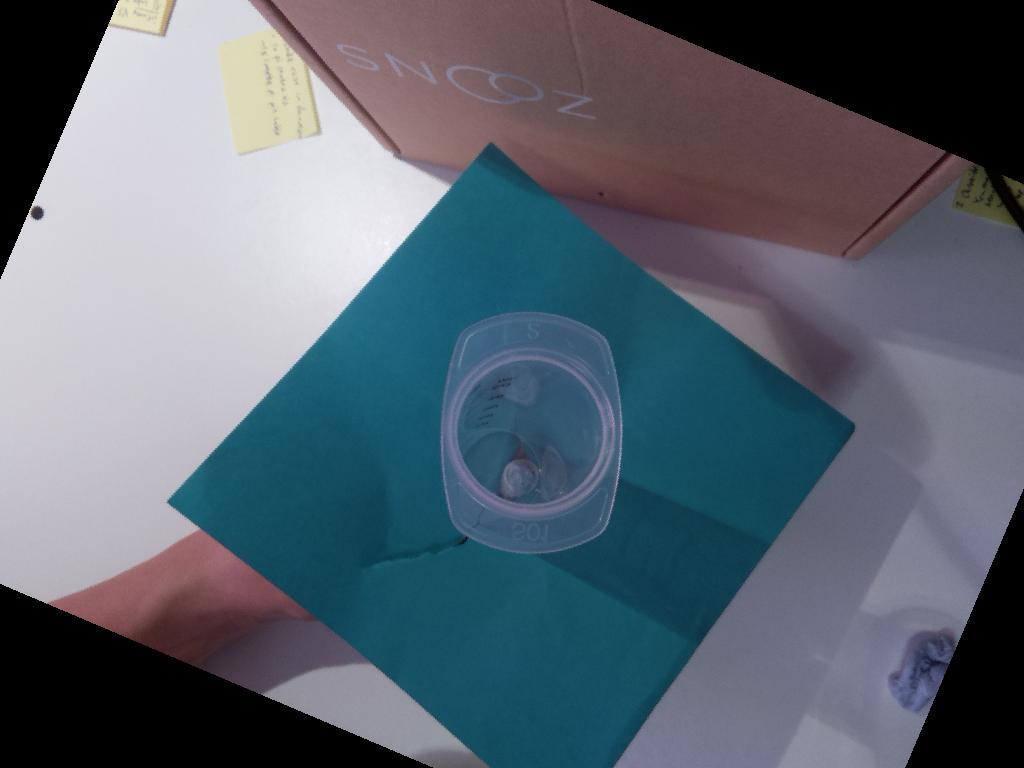clean: (441, 311, 627, 553)
